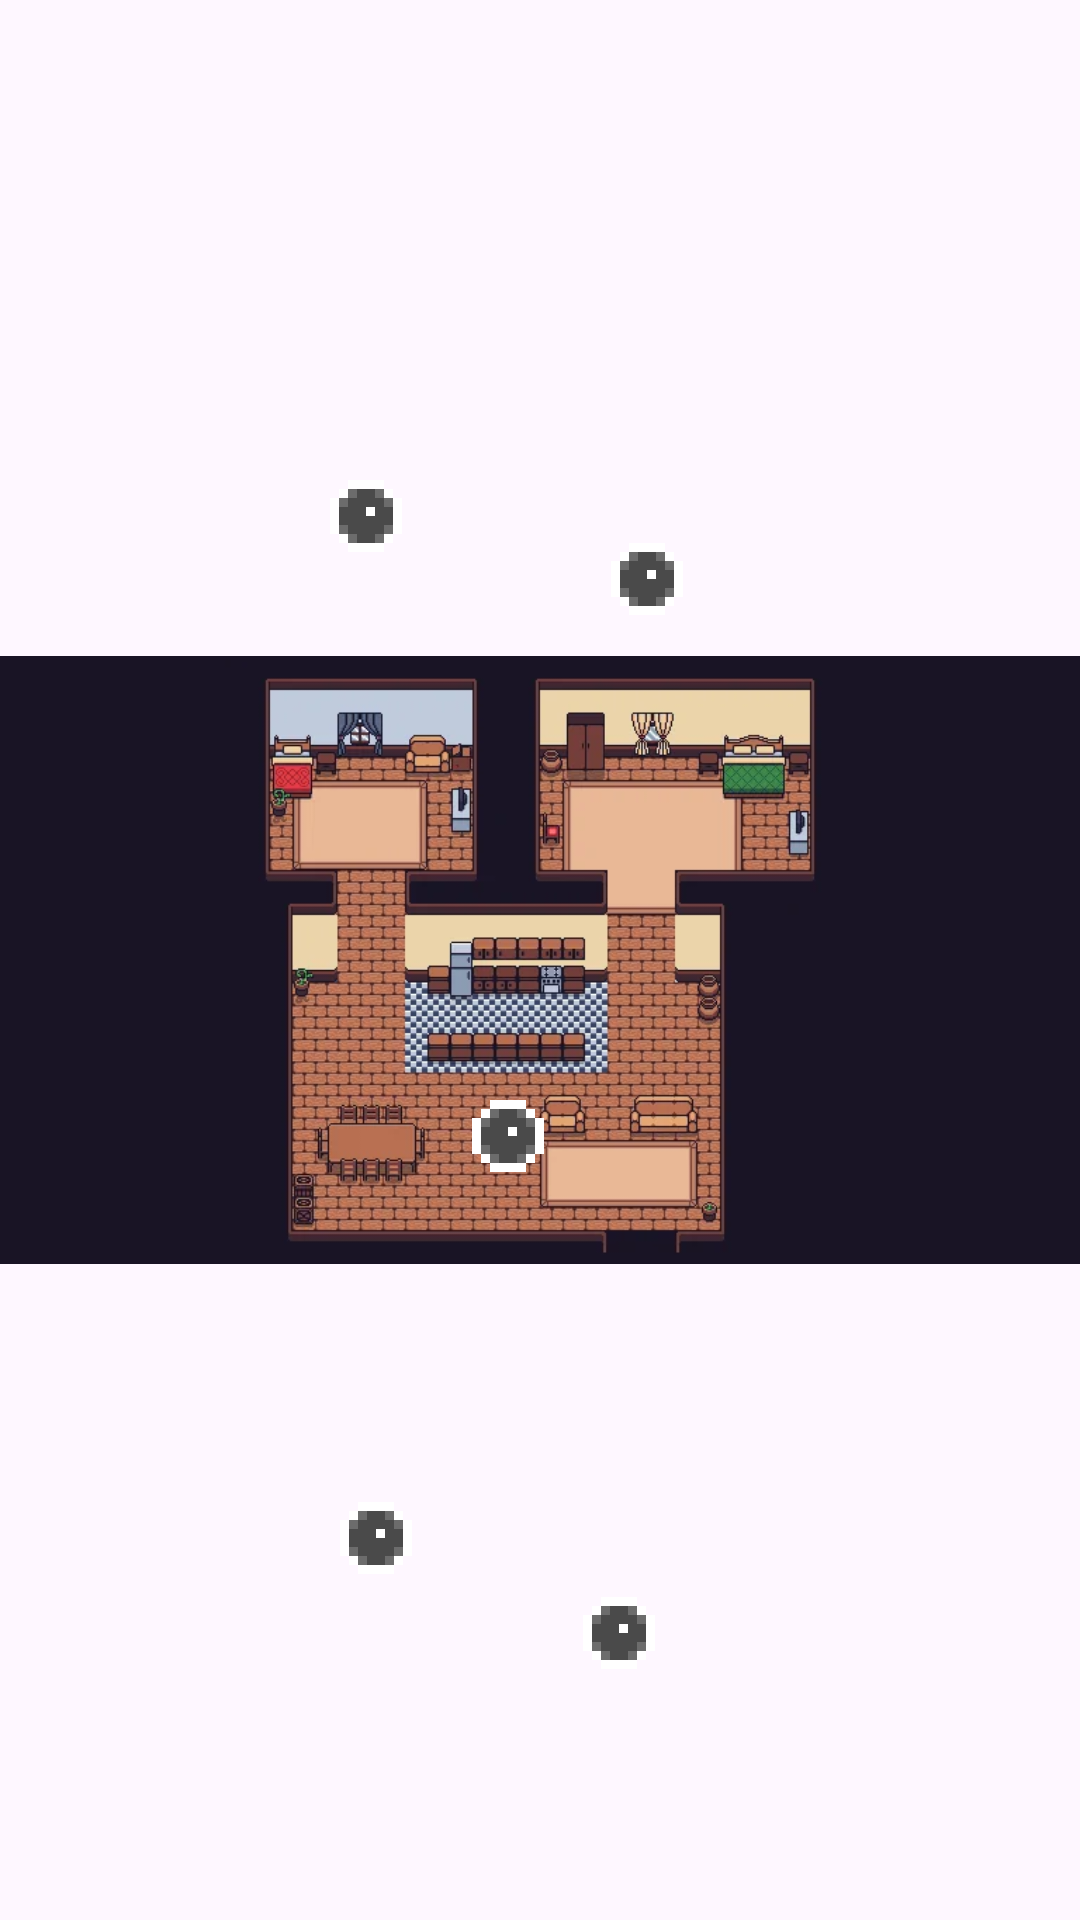

Locate icon controls on the screen. Image size 1080px×1920px, boxes as (x1, y1, x2, y2).
botonnivelsinpasar: (339, 489, 393, 543), (620, 552, 674, 606), (472, 1100, 544, 1172), (349, 1511, 403, 1565), (592, 1606, 646, 1660)
